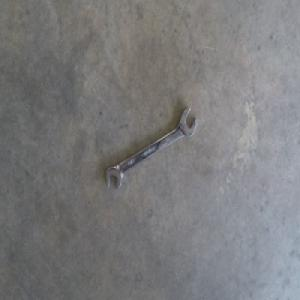Wrench: (106, 104, 197, 193)
